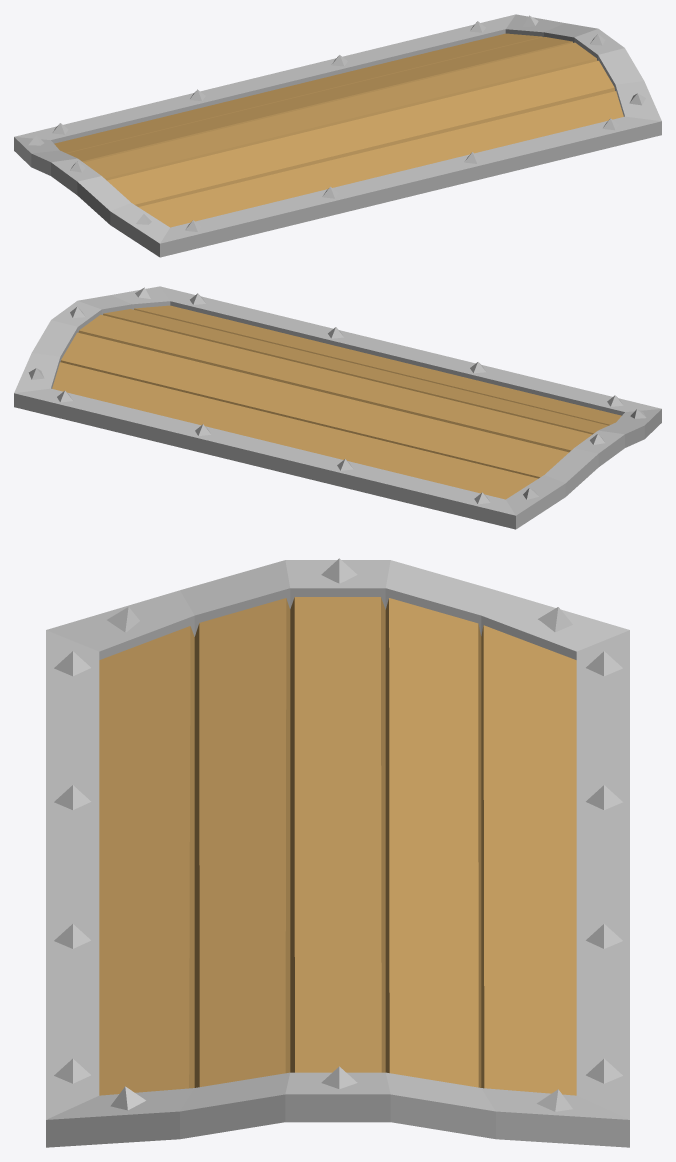
The model's file is Shield_2_b_wood.fbx.
3 renders of one model, top to bottom at view 1: azimuth 30°, elevation 25°; view 2: azimuth 150°, elevation 25°; view 3: azimuth 270°, elevation 25°, orthographic. The views are drawn at different scales.
Parts seen in each view (by area): view 1: Plane.073, Plane.072, Cone.168; view 2: Plane.073, Plane.072, Cone.168; view 3: Plane.073, Plane.072, Cone.168.
Boxes of the visible parts, x1,y1,x2,y2 form: Plane.073: [54, 33, 623, 227]; Plane.072: [14, 14, 661, 257]; Cone.168: [28, 15, 645, 231]; Plane.073: [52, 305, 621, 499]; Plane.072: [14, 286, 661, 529]; Cone.168: [28, 287, 646, 504]; Plane.073: [99, 597, 576, 1095]; Plane.072: [46, 560, 629, 1147]; Cone.168: [54, 558, 622, 1111].
Bounding box in the file's own units: 132 × 16.24 × 61.17.
